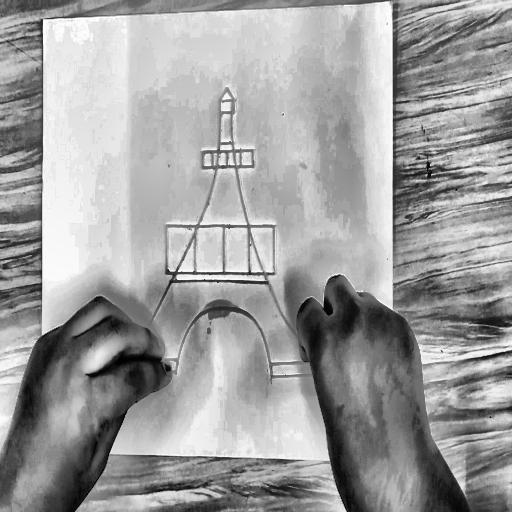bottom_left: (40, 451, 46, 461)
bottom_right: (390, 456, 397, 467)
eiffel-tower: (105, 62, 342, 392)
top_left: (40, 17, 46, 27)
top_right: (391, 0, 393, 4)
